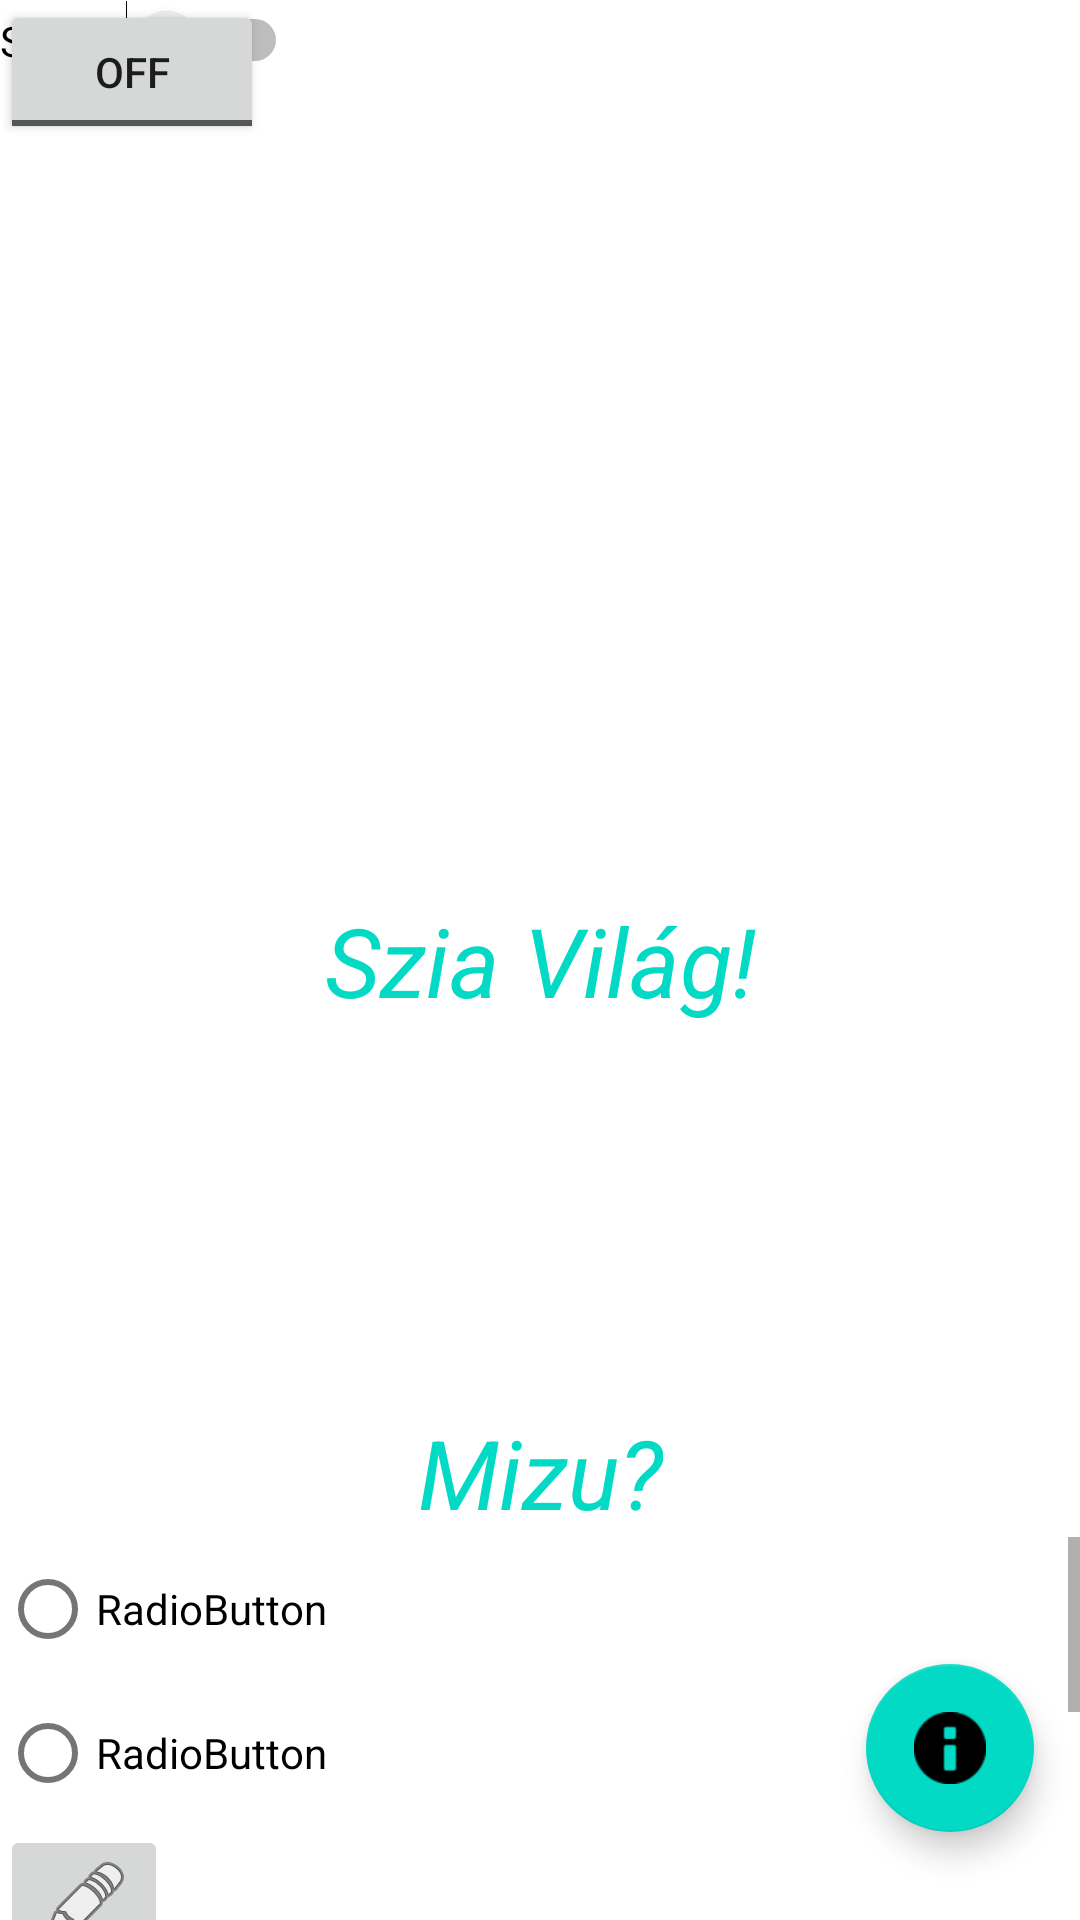

Locate icon controls on the screen. Image size 1080w x 1920h, boxes as (x1, y1, x2, y2).
info: (866, 1664, 1034, 1832)
